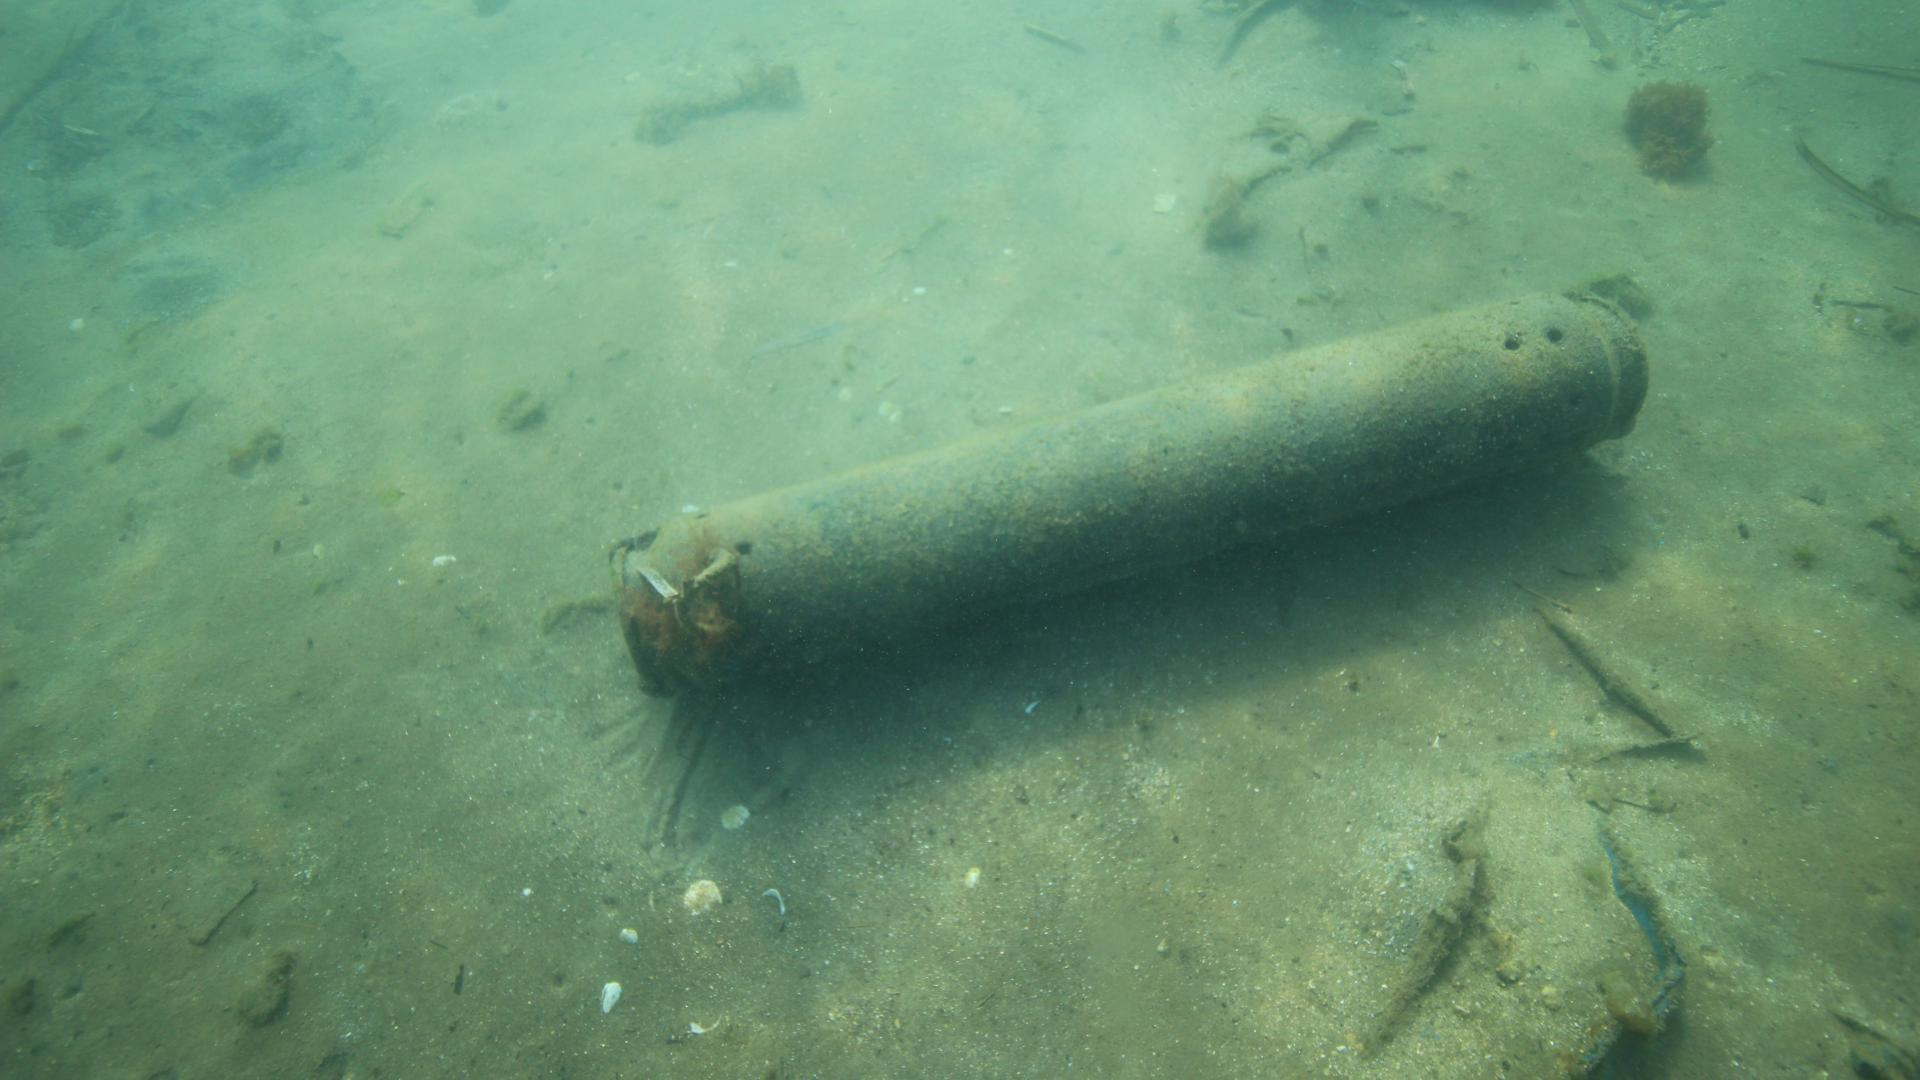eel fish trap: (611, 282, 1651, 703)
